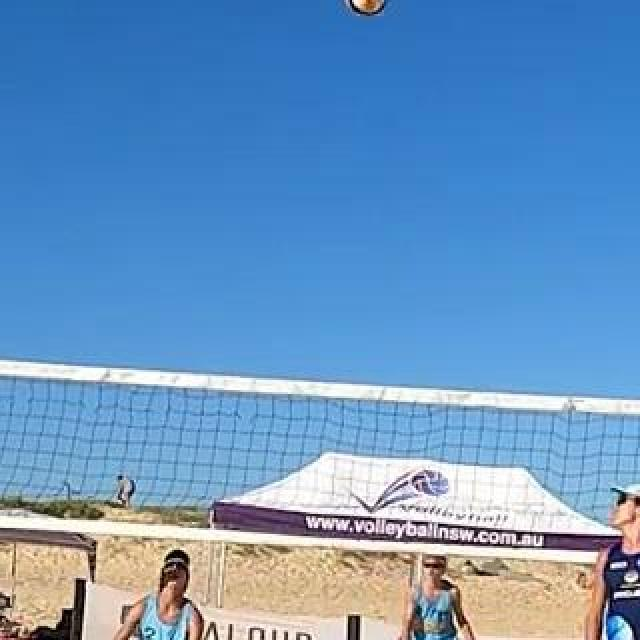volleyball: (347, 0, 389, 14)
